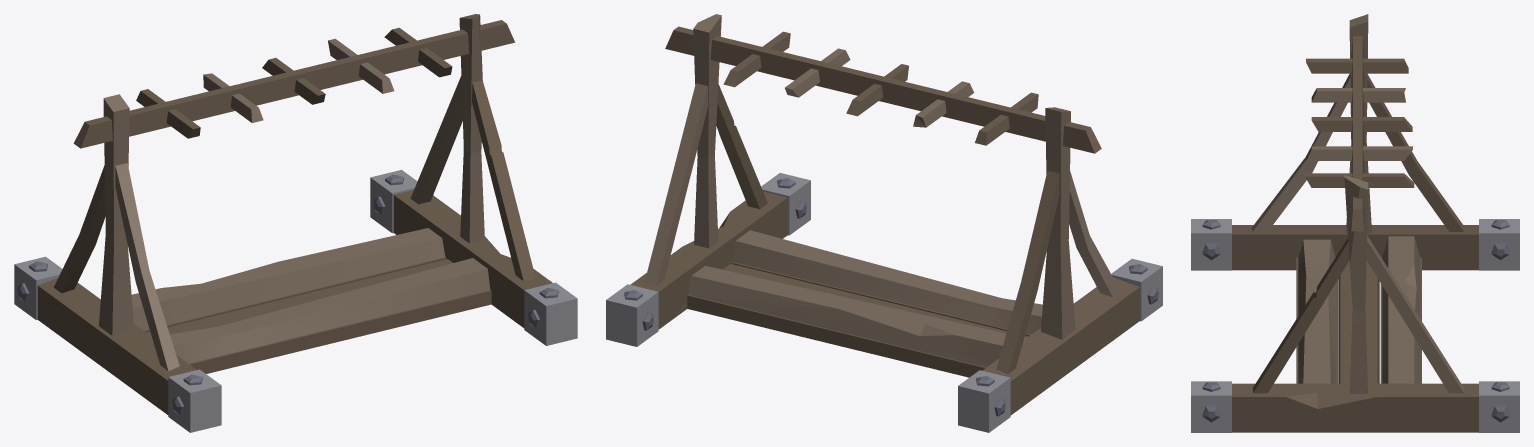
File: _WEAPON_STAND.fbx
3 views of the same model, side by side, from view 1: azimuth 30°, elevation 25°; view 2: azimuth 150°, elevation 25°; view 3: azimuth 270°, elevation 25° (orthographic). The views are drawn at different scales.
Parts seen in each view (by area): view 1: WEAPON_STAND; view 2: WEAPON_STAND; view 3: WEAPON_STAND.
Boxes of the visible parts, bbox=[...] form: WEAPON_STAND: bbox=[14, 14, 577, 432]; WEAPON_STAND: bbox=[606, 14, 1162, 432]; WEAPON_STAND: bbox=[1191, 14, 1519, 432].
Size of the model in its own units: 292 by 170 by 205.
